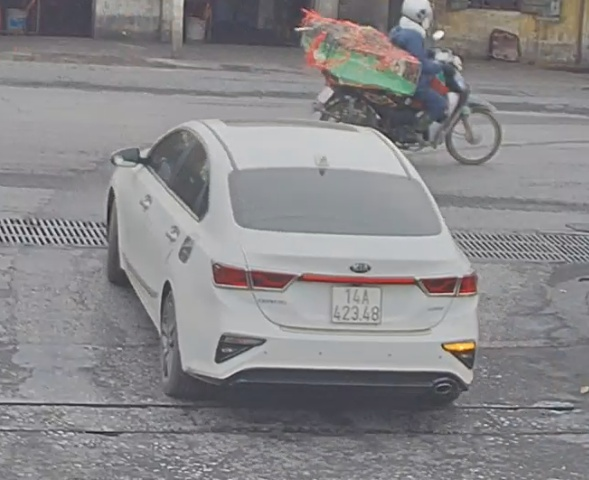vehicle plate: (325, 279, 383, 327)
